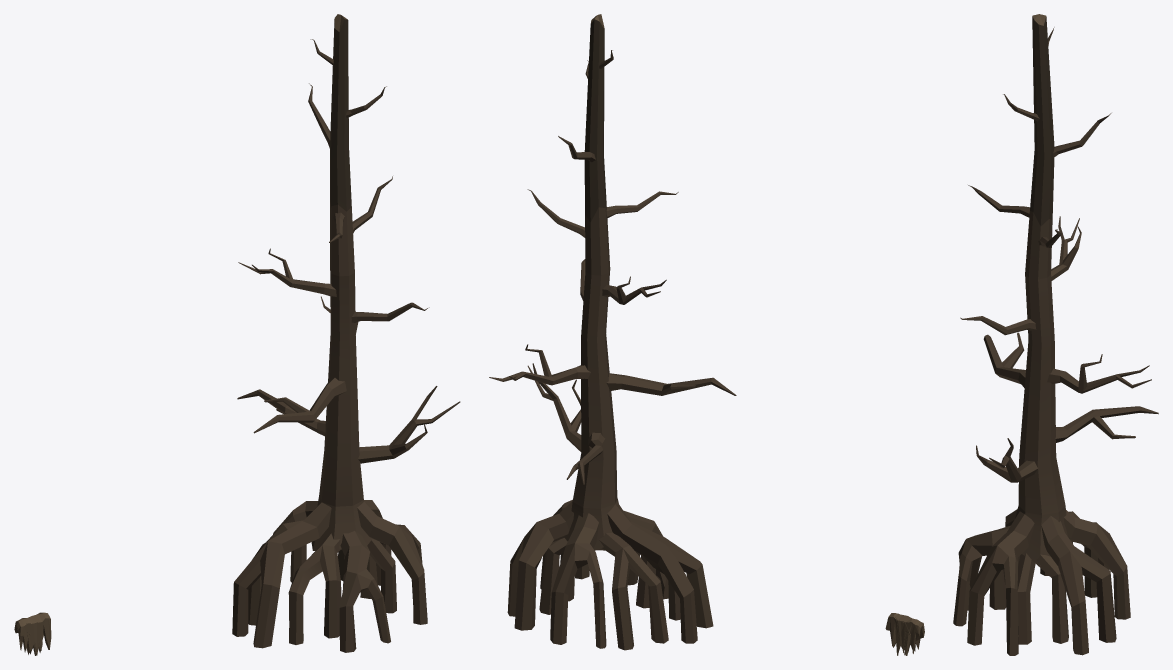
The model's file is SM_Tree_Swamp_parts.fbx.
The picture shows the model from 3 angles, left to right: view 1: azimuth 30°, elevation 25°; view 2: azimuth 150°, elevation 25°; view 3: azimuth 270°, elevation 25°; orthographic projection.
Parts seen in each view (by area): view 1: SM_Tree_Swamp_03_partA, SM_Tree_Swamp_03_partB, SM_Tree_Swamp_03_partC, SM_Tree_Swamp_partMossLong; view 2: SM_Tree_Swamp_03_partA, SM_Tree_Swamp_03_partB, SM_Tree_Swamp_03_partC, SM_Tree_Swamp_partMossLong; view 3: SM_Tree_Swamp_03_partA, SM_Tree_Swamp_03_partB, SM_Tree_Swamp_03_partC.
Boxes of the visible parts, <box> form: SM_Tree_Swamp_03_partA: <box>232,296,460,652</box>; SM_Tree_Swamp_03_partB: <box>238,176,429,366</box>; SM_Tree_Swamp_03_partC: <box>308,14,386,211</box>; SM_Tree_Swamp_partMossLong: <box>14,612,51,655</box>; SM_Tree_Swamp_03_partA: <box>489,341,736,650</box>; SM_Tree_Swamp_03_partB: <box>527,189,678,367</box>; SM_Tree_Swamp_03_partC: <box>558,14,613,221</box>; SM_Tree_Swamp_partMossLong: <box>885,613,924,655</box>; SM_Tree_Swamp_03_partA: <box>953,332,1158,655</box>; SM_Tree_Swamp_03_partB: <box>960,185,1081,366</box>; SM_Tree_Swamp_03_partC: <box>1003,14,1111,226</box>.
Size of the model in its own units: 543 by 743 by 227.
